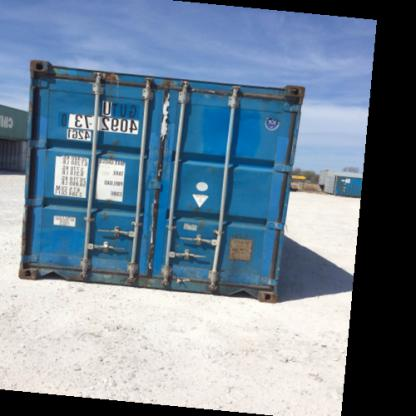Damage: (86, 68, 134, 105), (84, 254, 146, 282), (144, 188, 168, 248), (155, 85, 174, 153), (166, 268, 201, 295), (154, 163, 165, 184)
